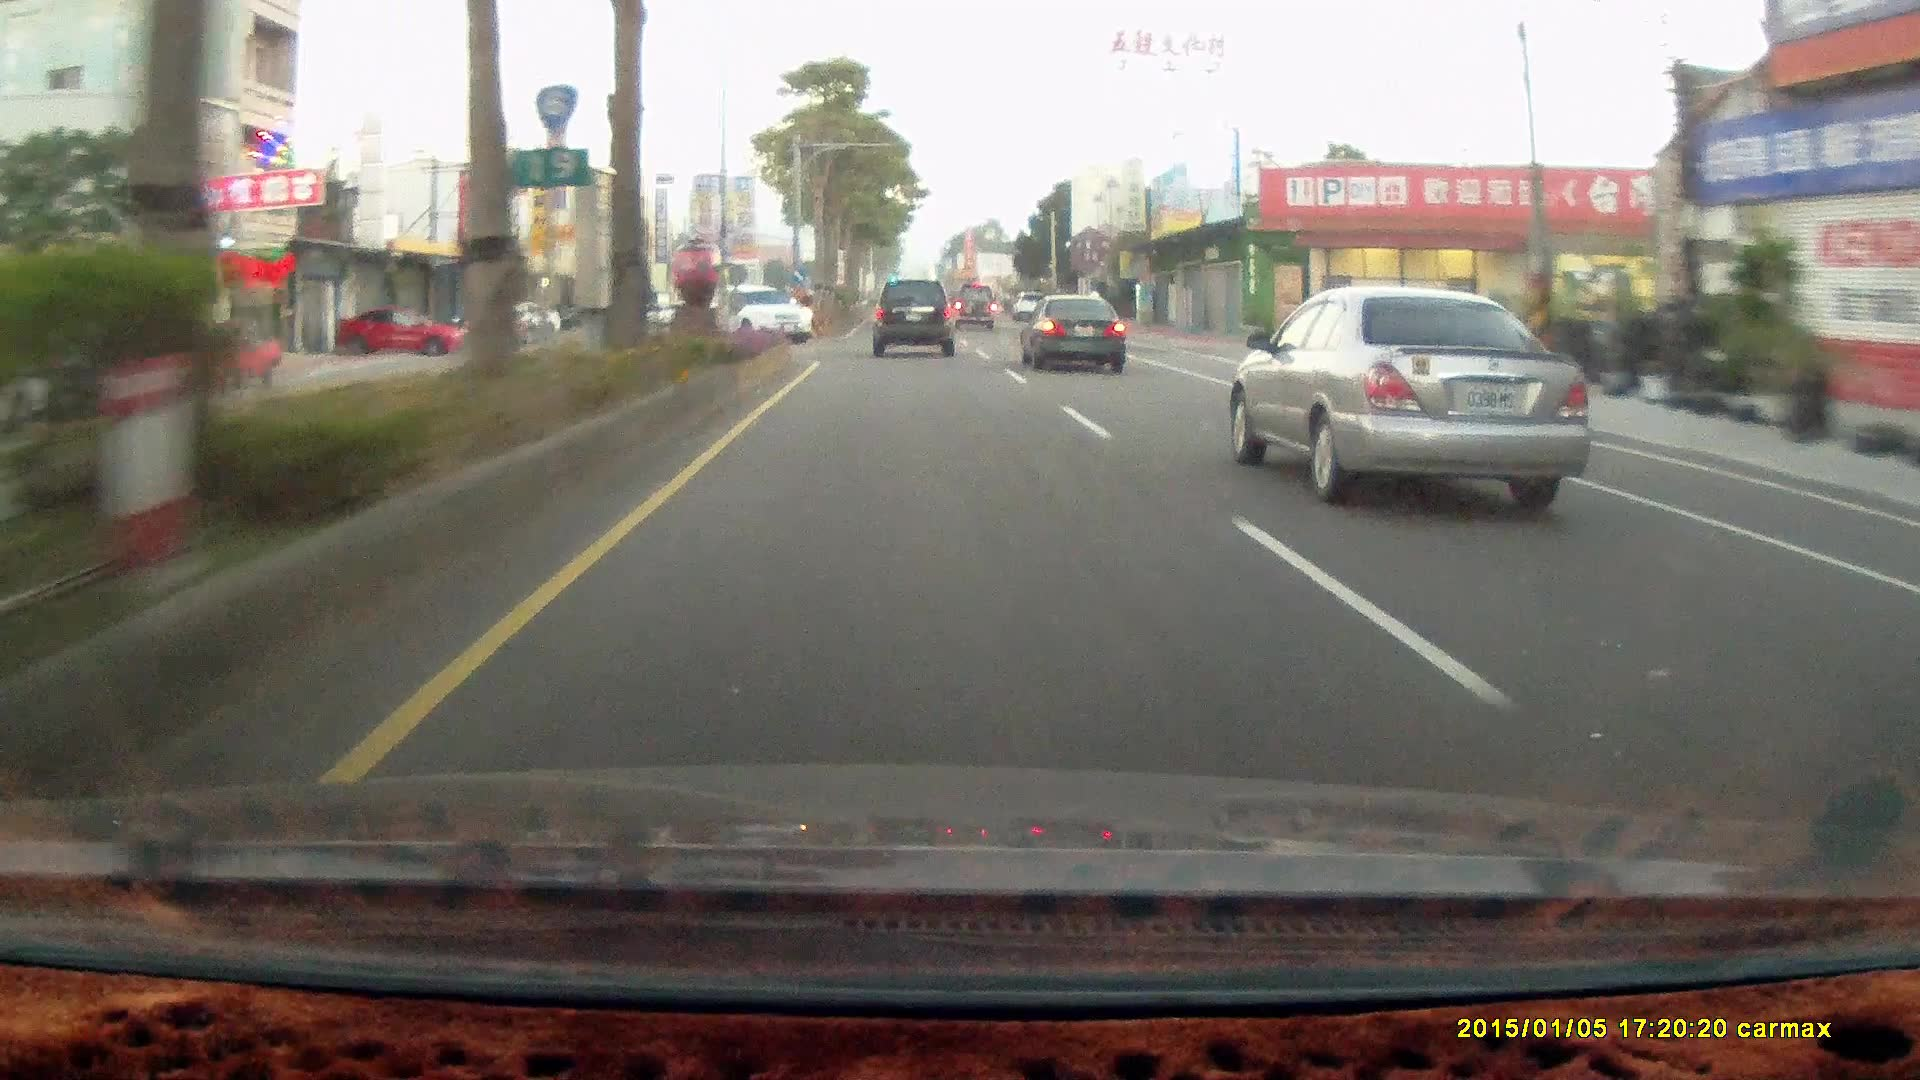vehicle: (1238, 282, 1588, 502), (1017, 290, 1129, 375), (1015, 294, 1124, 371), (328, 305, 476, 357), (873, 278, 963, 363), (334, 305, 465, 356), (870, 280, 953, 357), (716, 284, 814, 345), (729, 282, 814, 344), (949, 284, 998, 334), (949, 284, 997, 332)
